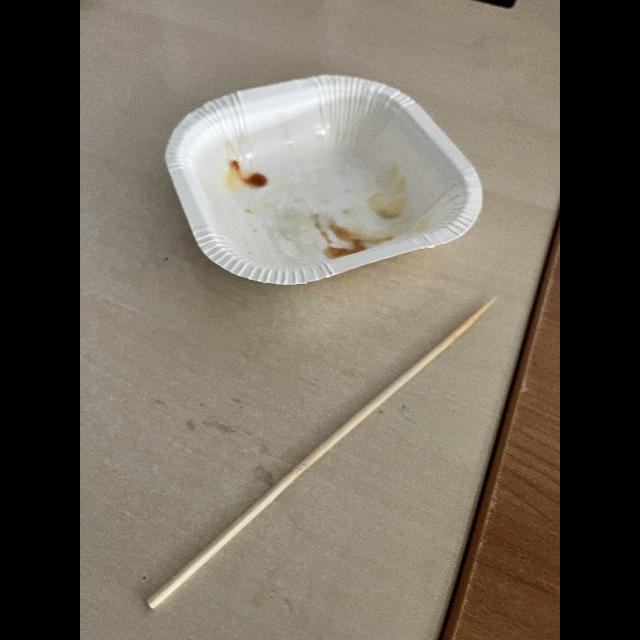stick: (140, 301, 500, 604), (165, 70, 482, 292)
